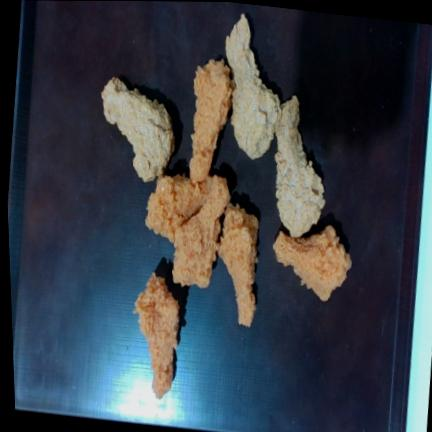chicken: (145, 175, 229, 287), (226, 14, 280, 159), (101, 77, 174, 182), (275, 96, 324, 236), (172, 176, 230, 288), (273, 226, 351, 301), (134, 273, 179, 398), (190, 59, 233, 182), (218, 204, 258, 326)
